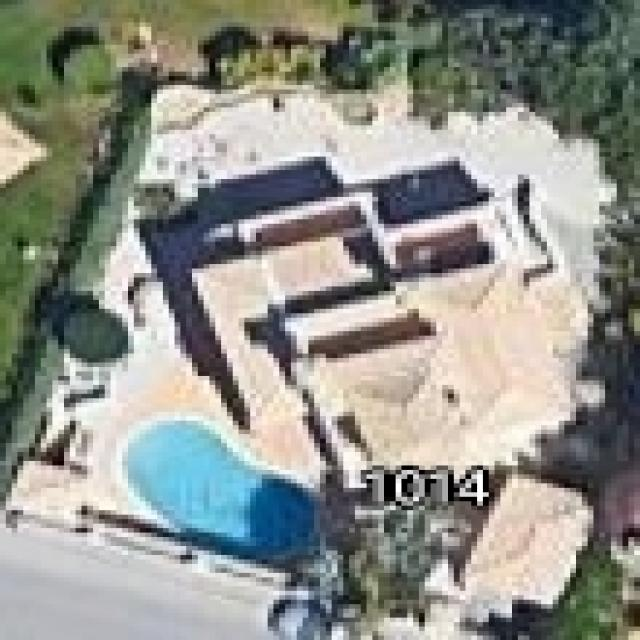pool: (63, 349, 364, 623)
